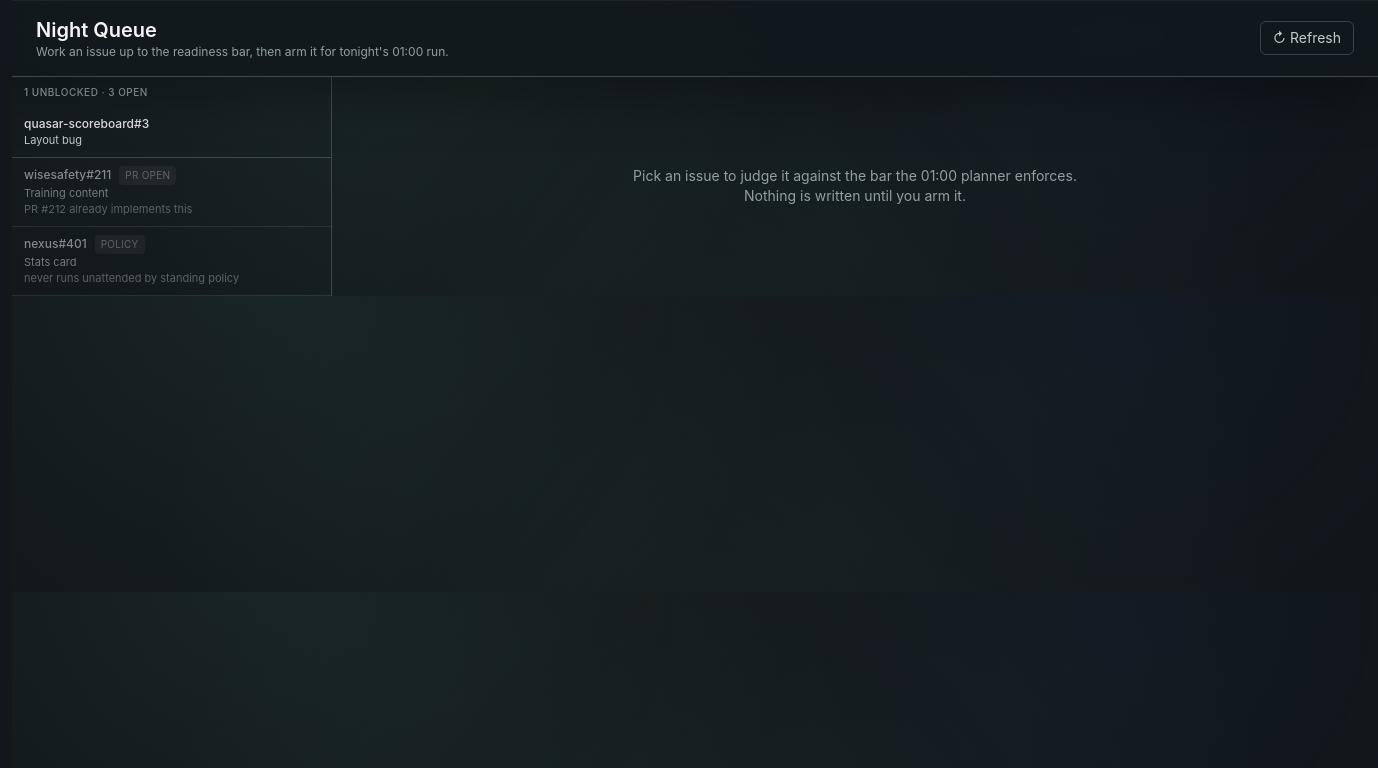
Test: NightQueueWorkshop › drops an assessment the user has switched away from
The image size is (1378, 768).
Click the text "Training content" at coordinates (66, 192), box [24,186,108,200]
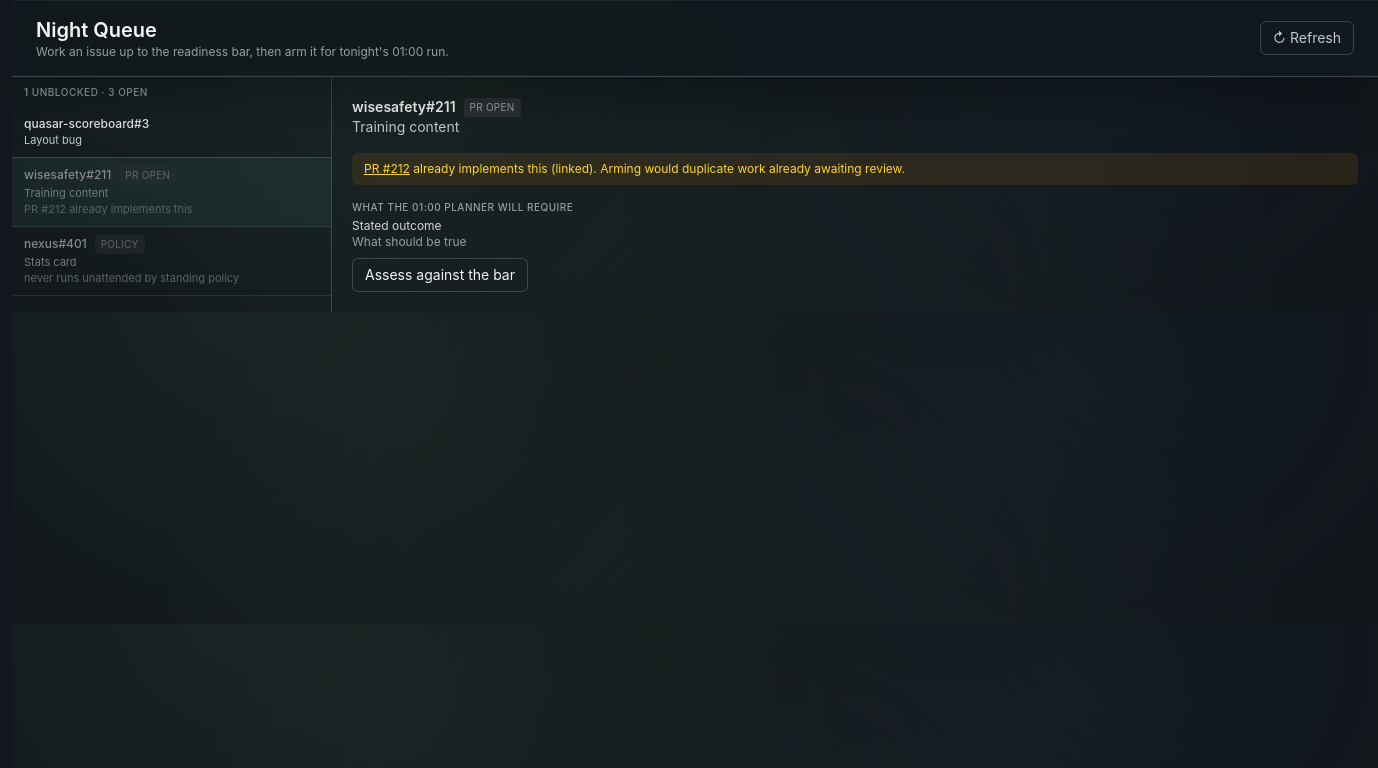
Click the button "Assess against the bar" at coordinates (440, 275), box [352,258,528,292]
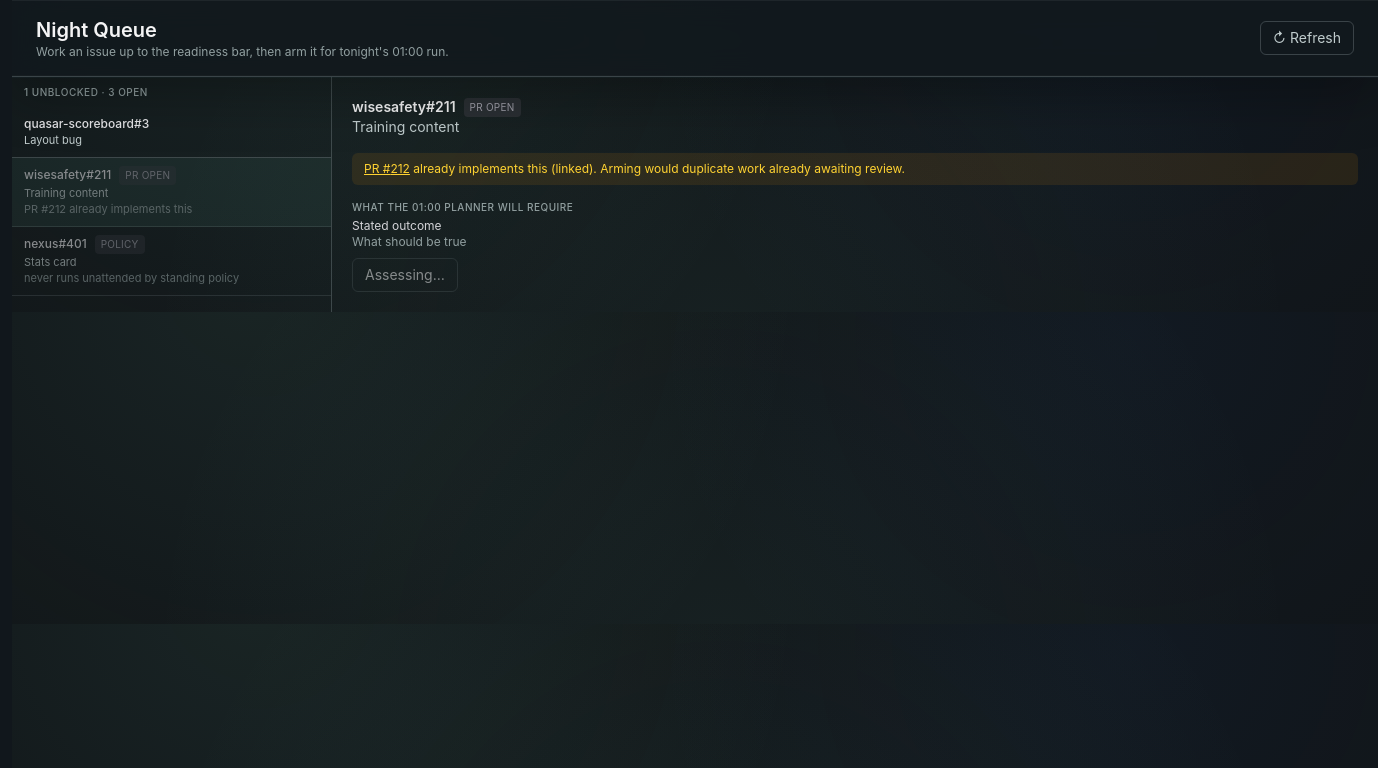
# Switch away while #211's assessment is still in flight, then let it land.
Click the text "Layout bug" at coordinates (53, 140), box [24,133,82,147]
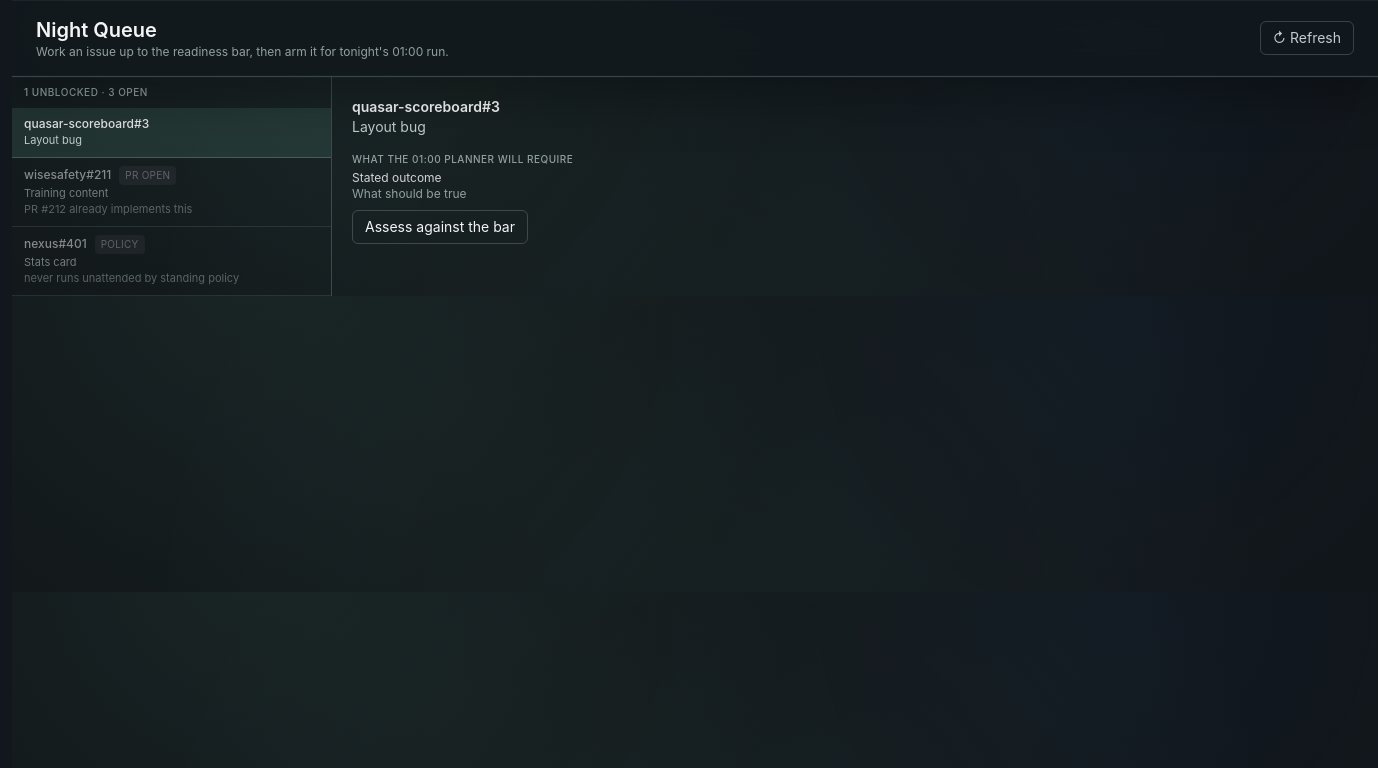
Now the button "Assess against the bar" is shown, box [352,210,528,244]
